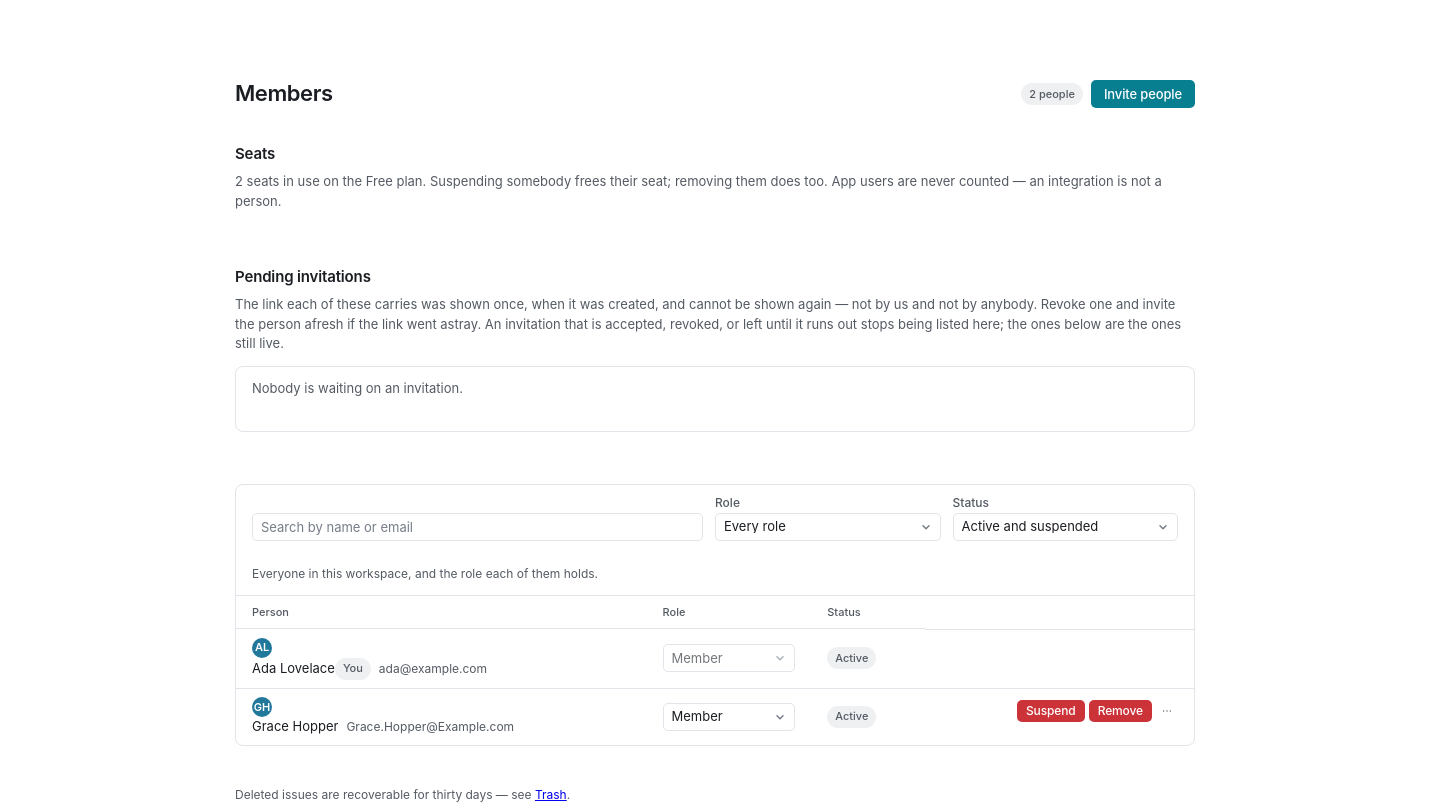
Test case: MemberSettings · creating an invitation › warns that an address already in the workspace will get an invitation that does nothing
Click the button "Invite people". click: point(1143, 94)
box: [1091,80,1195,108]
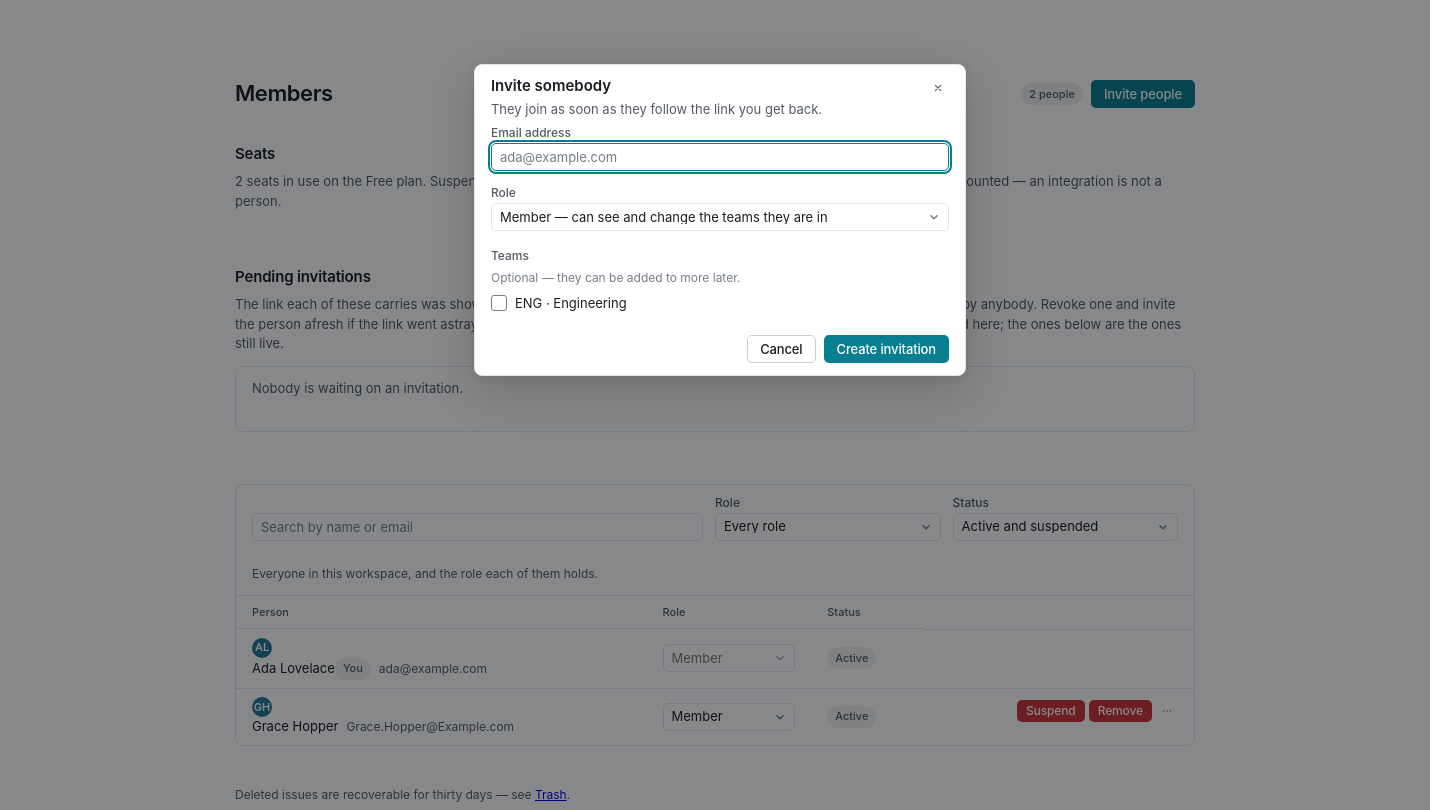
Type "GRACE.hopper@example.COM" into the field labelled "Email address". click: point(720, 157)
box: [500,144,940,170]
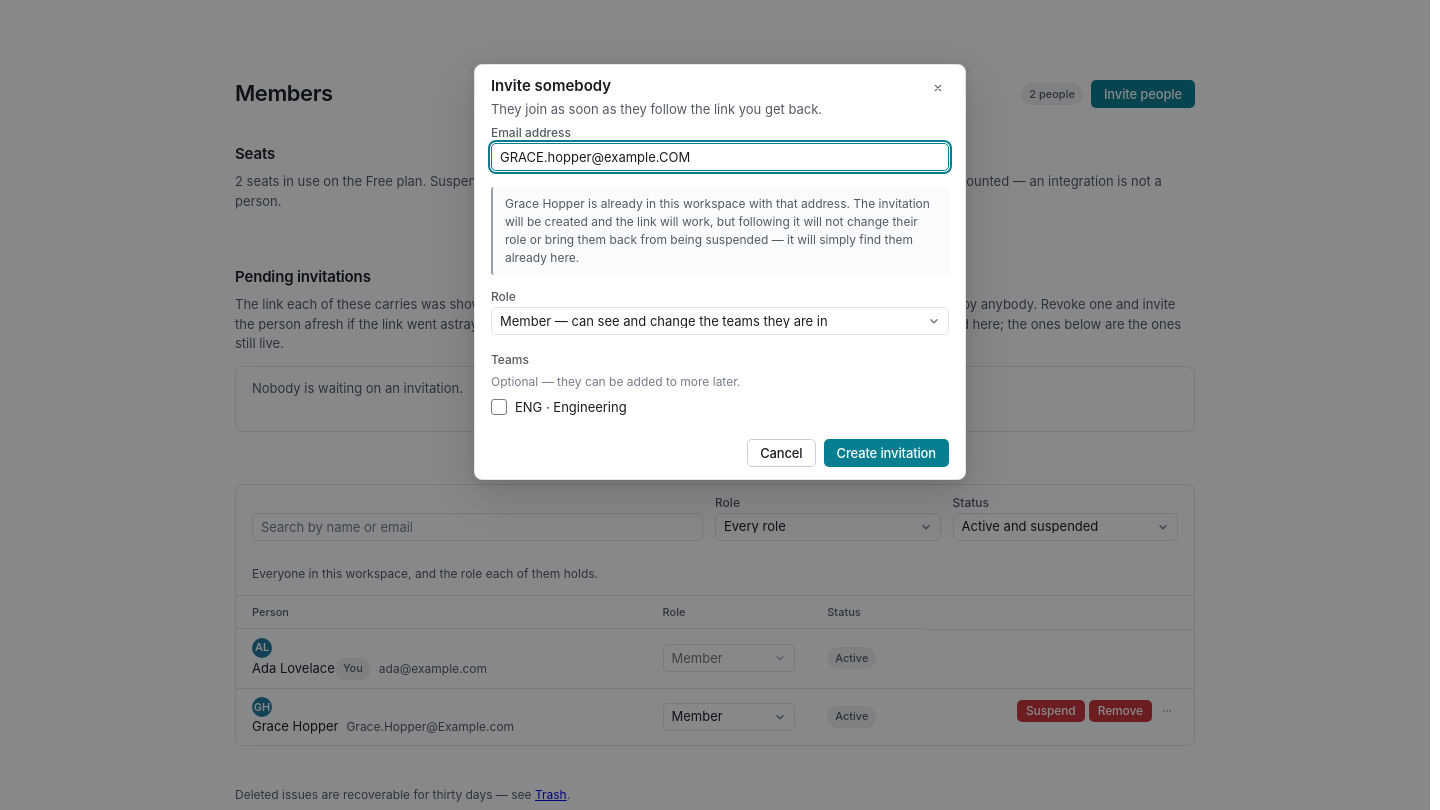
Expected: the button "Create invitation" is enabled, [824,439,949,467]
Expected: the text "Grace Hopper is already in this workspace" is shown, [491,187,949,275]
